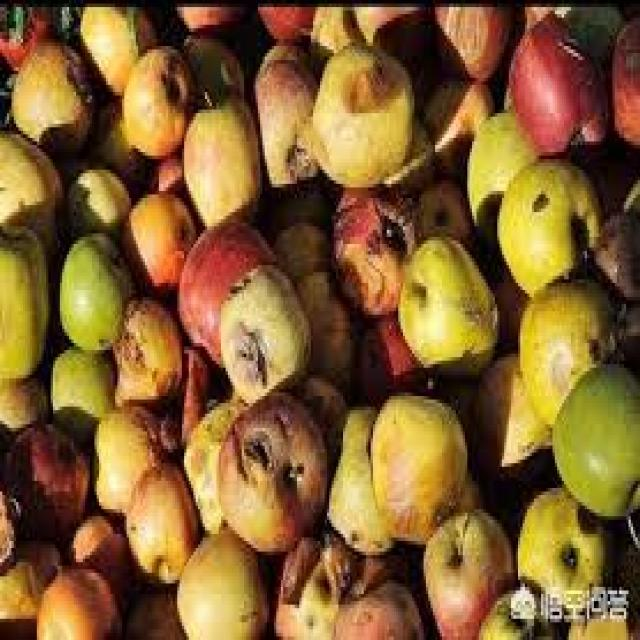organic waste: (0, 0, 637, 636), (214, 386, 327, 552), (518, 265, 622, 435), (396, 226, 500, 382), (495, 152, 601, 301), (366, 385, 463, 541), (175, 212, 272, 368), (506, 11, 606, 159), (306, 42, 412, 180), (550, 357, 638, 516), (513, 484, 610, 619), (465, 346, 550, 492), (419, 506, 513, 636), (221, 258, 306, 400), (327, 180, 421, 308), (322, 396, 392, 555), (182, 85, 258, 226), (175, 524, 269, 636), (308, 0, 431, 85), (7, 35, 92, 152), (2, 417, 85, 534), (465, 110, 534, 248), (124, 459, 200, 584), (55, 230, 129, 346), (120, 42, 196, 152), (251, 60, 315, 188), (421, 67, 493, 177), (90, 407, 161, 512), (76, 0, 157, 92), (272, 538, 348, 636), (110, 294, 180, 399), (122, 188, 196, 286), (34, 552, 120, 636), (0, 128, 60, 248), (0, 223, 46, 378), (295, 262, 350, 386), (352, 304, 426, 396), (156, 343, 210, 456), (48, 339, 110, 435), (428, 0, 508, 74), (0, 538, 60, 636), (329, 573, 419, 636), (62, 156, 127, 240), (320, 530, 398, 598), (589, 198, 638, 304), (85, 92, 141, 184), (295, 372, 343, 478), (66, 509, 126, 591), (177, 32, 244, 102), (380, 113, 433, 195), (419, 170, 472, 248), (476, 580, 548, 636), (272, 216, 329, 283), (608, 7, 638, 134), (258, 184, 327, 237), (0, 0, 48, 70), (486, 262, 525, 343), (610, 527, 638, 636), (125, 587, 187, 636), (0, 372, 44, 432), (256, 39, 316, 81), (173, 3, 244, 36), (256, 3, 313, 42), (138, 148, 184, 191), (610, 297, 638, 364), (0, 484, 18, 562), (449, 466, 481, 506), (564, 616, 626, 636), (51, 3, 74, 39), (566, 608, 571, 612)
